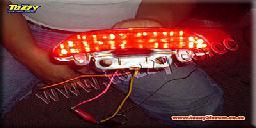LED: (61, 30, 207, 58)
